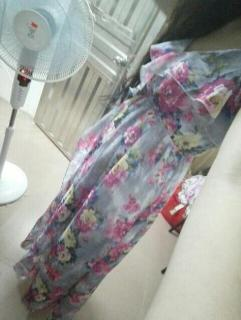sling: (14, 10, 241, 319)
